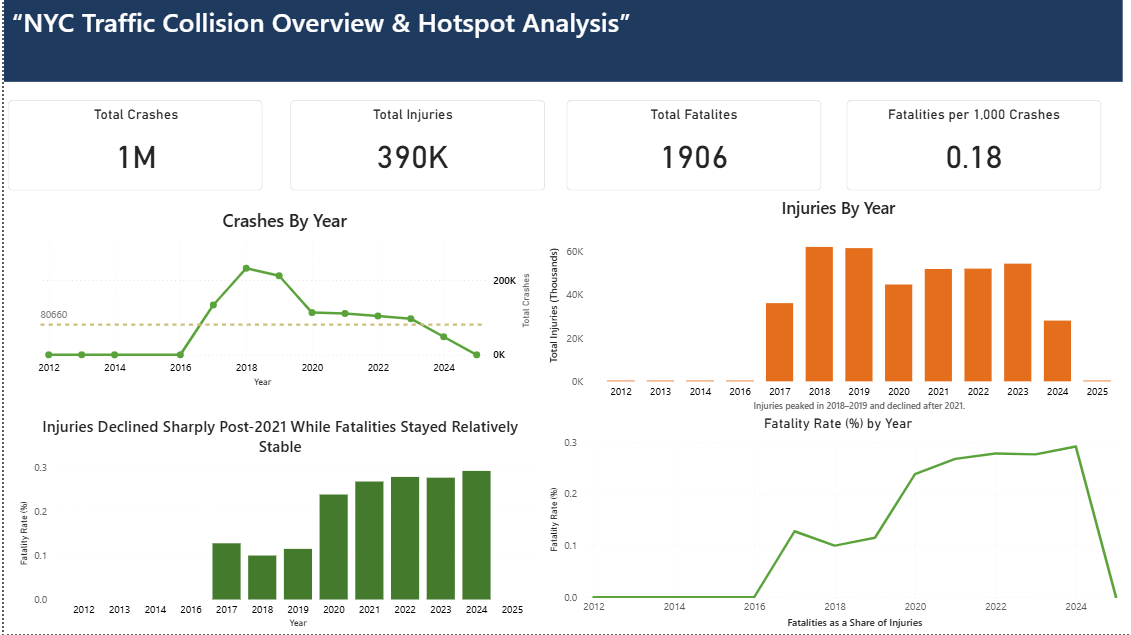

The dashboard page shown, as its layout file describes it:
{"tool":"powerbi","page":{"name":"Page 1","canvas":[1366,768],"ordinal":0},"visuals":[{"type":"shape","box":[0,0,1356,99.6],"z":0},{"type":"shape","box":[4.4,121.5,309,109.8],"z":1000},{"type":"shape","box":[347.1,121.5,309,109.8],"z":2000},{"type":"shape","box":[682.4,121.5,309,109.8],"z":3000},{"type":"shape","box":[1020.7,121.5,309,109.8],"z":4000},{"type":"card","title":"Total Crashes","fields":{"Values":["Motor_Vehicle_Collisions_-_Crashes.Total Crashes"]},"box":[16.1,128.9,287,95.2],"z":5000},{"type":"card","title":"Total Injuries","fields":{"Values":["Motor_Vehicle_Collisions_-_Crashes.total injuries"]},"box":[347.1,128.9,297.3,95.2],"z":6000},{"type":"card","title":"Total Fatalites","fields":{"Values":["Motor_Vehicle_Collisions_-_Crashes.Total Fatalites"]},"box":[688.3,128.9,297.3,95.2],"z":7000},{"type":"card","title":"Fatalities per 1,000 Crashes","fields":{"Values":["Motor_Vehicle_Collisions_-_Crashes.Fatality Rate (%)"]},"box":[1026.6,128.9,297.3,95.2],"z":8000},{"type":"lineChart","title":"Crashes By Year","fields":{"Category":["Motor_Vehicle_Collisions_-_Crashes.CRASH_DATE.Variation.Date Hierarchy.Year","Motor_Vehicle_Collisions_-_Crashes.CRASH_DATE.Variation.Date Hierarchy.Quarter","Motor_Vehicle_Collisions_-_Crashes.CRASH_DATE.Variation.Date Hierarchy.Month","Motor_Vehicle_Collisions_-_Crashes.CRASH_DATE.Variation.Date Hierarchy.Day"],"Y":["Motor_Vehicle_Collisions_-_Crashes.Total Crashes"]},"box":[36.4,251.5,607.6,222.7],"z":9000},{"type":"lineClusteredColumnComboChart","title":"Injuries Declined Sharply Post-2021 While Fatalities Stayed Relatively Stable","fields":{"Y":["Motor_Vehicle_Collisions_-_Crashes.Fatality Rate (%)"],"Category":["Motor_Vehicle_Collisions_-_Crashes.CRASH_DATE.Variation.Date Hierarchy.Year"]},"box":[13.6,503,642.4,263.6],"z":10000},{"type":"clusteredColumnChart","title":"Injuries By Year","fields":{"Category":["Motor_Vehicle_Collisions_-_Crashes.CRASH_DATE.Variation.Date Hierarchy.Year"],"Y":["Motor_Vehicle_Collisions_-_Crashes.total injuries"]},"box":[656.1,237.9,710.6,265.2],"z":11000},{"type":"lineChart","fields":{"Y":["Motor_Vehicle_Collisions_-_Crashes.Fatality Rate (%)"],"Category":["Motor_Vehicle_Collisions_-_Crashes.CRASH_DATE.Variation.Date Hierarchy.Year"]},"box":[656,503,710,264],"z":12000},{"type":"textbox","box":[4.8,0,775.8,100],"z":13000}]}

Visuals, with their boxes in screenshot pixels (x1, y1, x2, y2), scaled from the page's 1366x768 canvas onto the 1131x635 screenshot:
shape: crop(0, 0, 1123, 82)
shape: crop(4, 100, 259, 191)
shape: crop(287, 100, 543, 191)
shape: crop(565, 100, 821, 191)
shape: crop(845, 100, 1101, 191)
"Total Crashes" card: crop(13, 107, 251, 185)
"Total Injuries" card: crop(287, 107, 534, 185)
"Total Fatalites" card: crop(570, 107, 816, 185)
"Fatalities per 1,000 Crashes" card: crop(850, 107, 1096, 185)
"Crashes By Year" lineChart: crop(30, 208, 533, 392)
"Injuries Declined Sharply Post-2021 While Fatalities Stayed Relatively Stable" lineClusteredColumnComboChart: crop(11, 416, 543, 634)
"Injuries By Year" clusteredColumnChart: crop(543, 197, 1130, 416)
lineChart - Motor_Vehicle_Collisions_-_Crashes.Fatality Rate (%) x Motor_Vehicle_Collisions_-_Crashes.CRASH_DATE.Variation.Date Hierarchy.Year: crop(543, 416, 1130, 634)
textbox: crop(4, 0, 646, 83)
